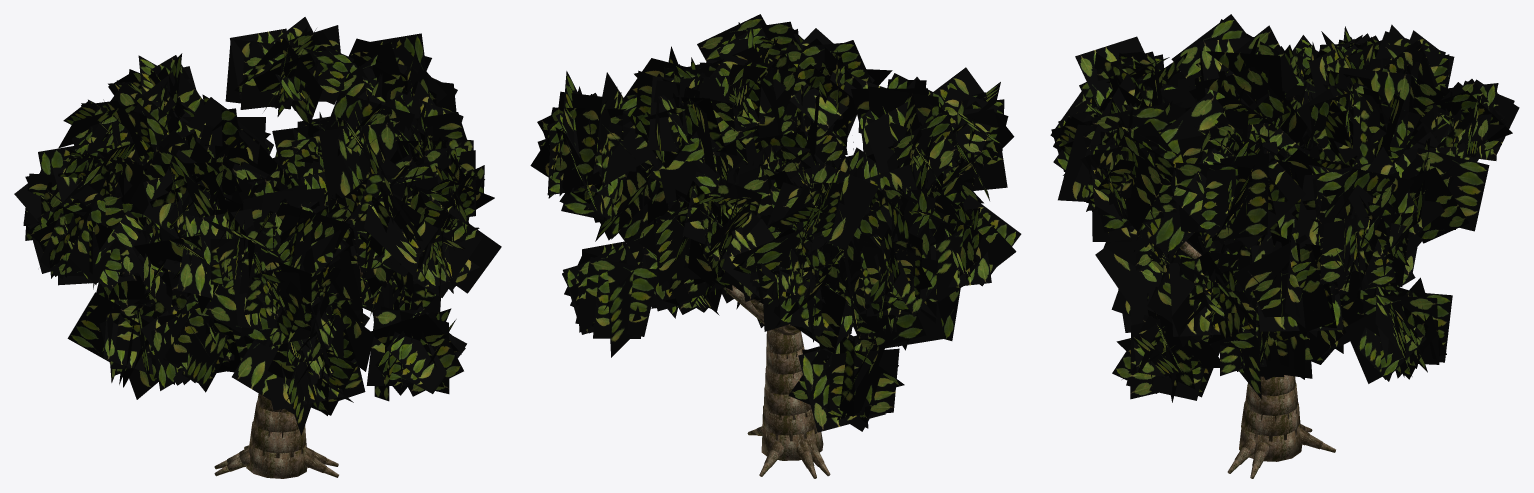
File: giant_2.glb
The picture shows the model from 3 angles, left to right: view 1: azimuth 30°, elevation 25°; view 2: azimuth 150°, elevation 25°; view 3: azimuth 270°, elevation 25°; orthographic projection. The views are drawn at different scales.
Visible parts, largest first — view 1: giant; view 2: giant; view 3: giant.
Boxes of the visible parts, box(x1,y1,x2,y2) form: giant: box(14, 17, 501, 478); giant: box(530, 14, 1021, 478); giant: box(1050, 14, 1519, 478).
Size of the model in its own units: 20.58 by 17.39 by 18.08.
Materials: 2 (2 with a texture image).
